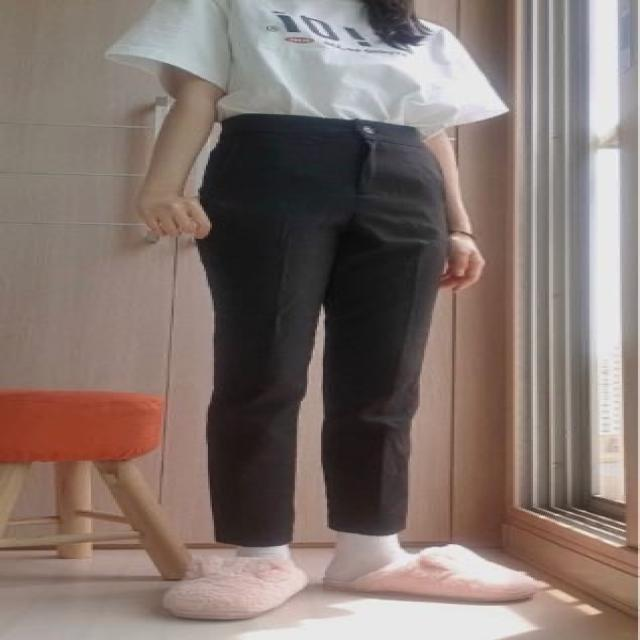shortsleeve: (109, 3, 505, 138)
slacks: (196, 110, 448, 545)
